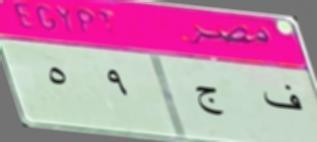5: (42, 63, 75, 91)
9: (105, 65, 131, 102)
faa: (263, 81, 304, 116)
jeem: (192, 81, 226, 121)
